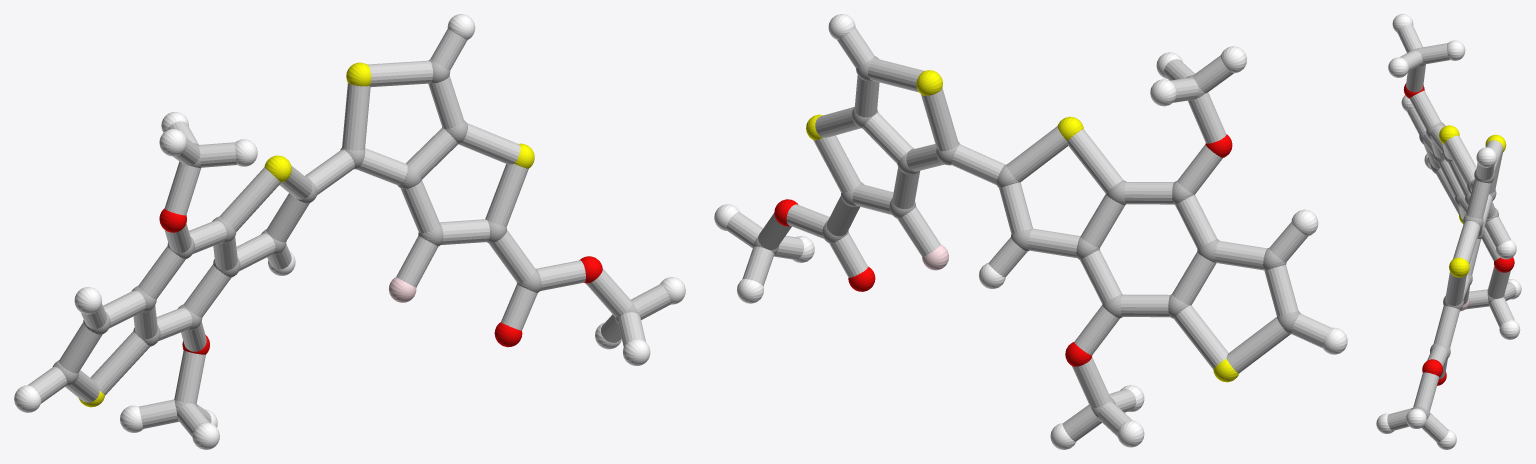
The model's file is color.glb.
The picture shows the model from 3 angles, left to right: view 1: azimuth 30°, elevation 25°; view 2: azimuth 150°, elevation 25°; view 3: azimuth 270°, elevation 25°; orthographic projection. The views are drawn at different scales.
Parts seen in each view (by area): view 1: grp15205, grp8689, grp1, grp13395, grp7241; view 2: grp15205, grp8689, grp1, grp7241, grp13395; view 3: grp15205, grp8689, grp1, grp7241, grp13395.
Boxes of the visible parts, left/top/right/bottom form: grp15205: left=28, top=29, right=671, bottom=436; grp8689: left=14, top=14, right=685, bottom=449; grp1: left=53, top=59, right=638, bottom=421; grp13395: left=159, top=208, right=602, bottom=354; grp7241: left=78, top=62, right=534, bottom=407; grp15205: left=726, top=27, right=1331, bottom=441; grp8689: left=714, top=14, right=1347, bottom=449; grp1: left=753, top=56, right=1300, bottom=418; grp7241: left=806, top=70, right=1239, bottom=382; grp13395: left=774, top=134, right=1232, bottom=366; grp15205: left=1387, top=24, right=1516, bottom=442; grp8689: left=1376, top=14, right=1521, bottom=449; grp1: left=1411, top=47, right=1504, bottom=418; grp7241: left=1439, top=125, right=1506, bottom=277; grp13395: left=1403, top=83, right=1514, bottom=385.
Bounding box in the file's own units: 16.4 × 9.14 × 4.2.
